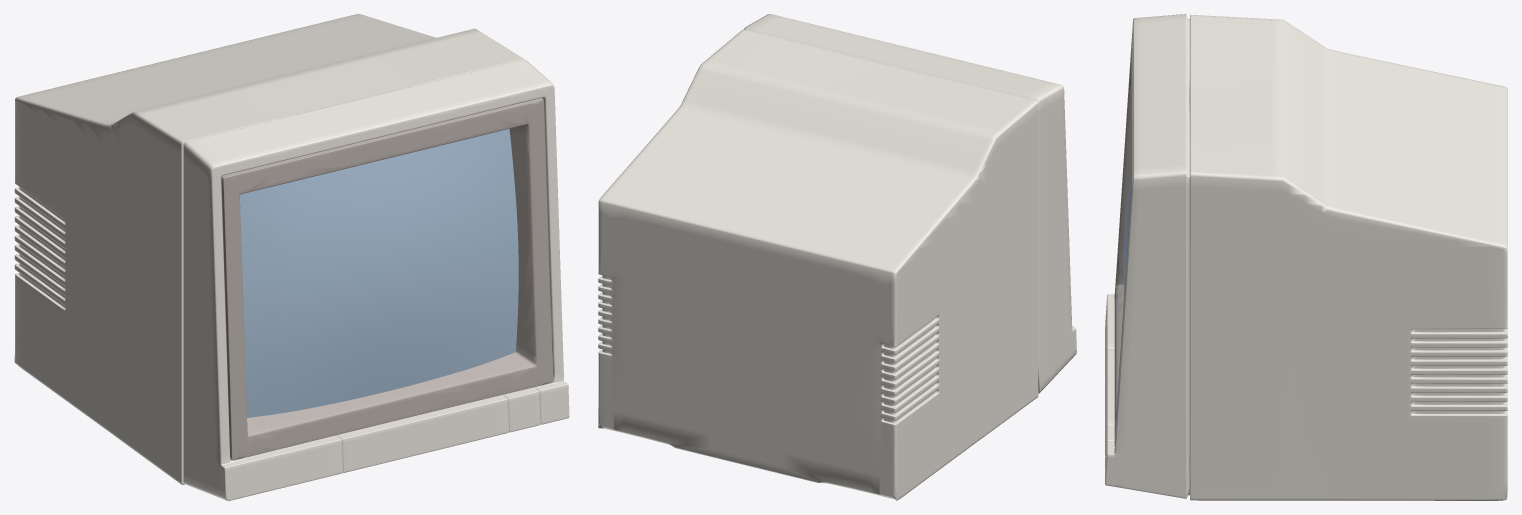
File: amiga_monitor.fbx
The picture shows the model from 3 angles, left to right: view 1: azimuth 30°, elevation 25°; view 2: azimuth 150°, elevation 25°; view 3: azimuth 270°, elevation 25°; orthographic projection. The views are drawn at different scales.
Visible parts, largest first — view 1: monitor, monitor.001, monitor.002; view 2: monitor; view 3: monitor, monitor.002.
Boxes of the visible parts, x1=… form: monitor: x1=14, y1=14, x2=569, y2=500; monitor.001: x1=240, y1=128, x2=518, y2=417; monitor.002: x1=221, y1=98, x2=553, y2=460; monitor: x1=598, y1=14, x2=1076, y2=500; monitor: x1=1105, y1=14, x2=1507, y2=500; monitor.002: x1=1114, y1=35, x2=1132, y2=446.
Size of the model in its own units: 36.24 by 34.57 by 38.38.
